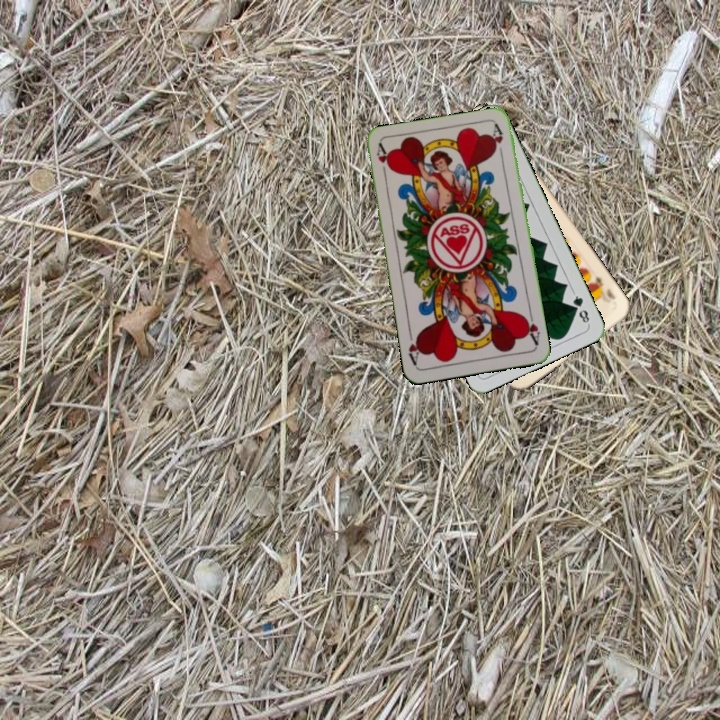E10: (588, 272, 618, 302)
G8: (569, 289, 592, 327)
HA: (520, 307, 542, 348), (372, 141, 393, 181)
